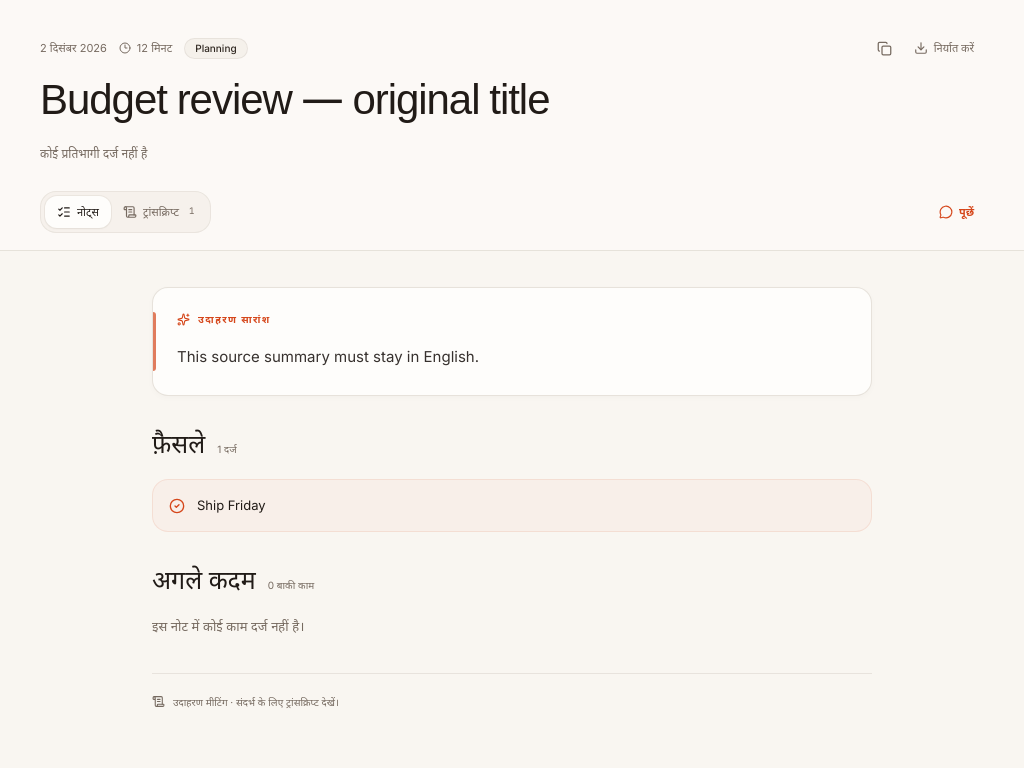
Test: translated workspace › translates Hindi transcript controls without translating the transcript
Click the tab "ट्रांसक्रिप्ट 1" at (159, 212), box [111, 196, 206, 228]
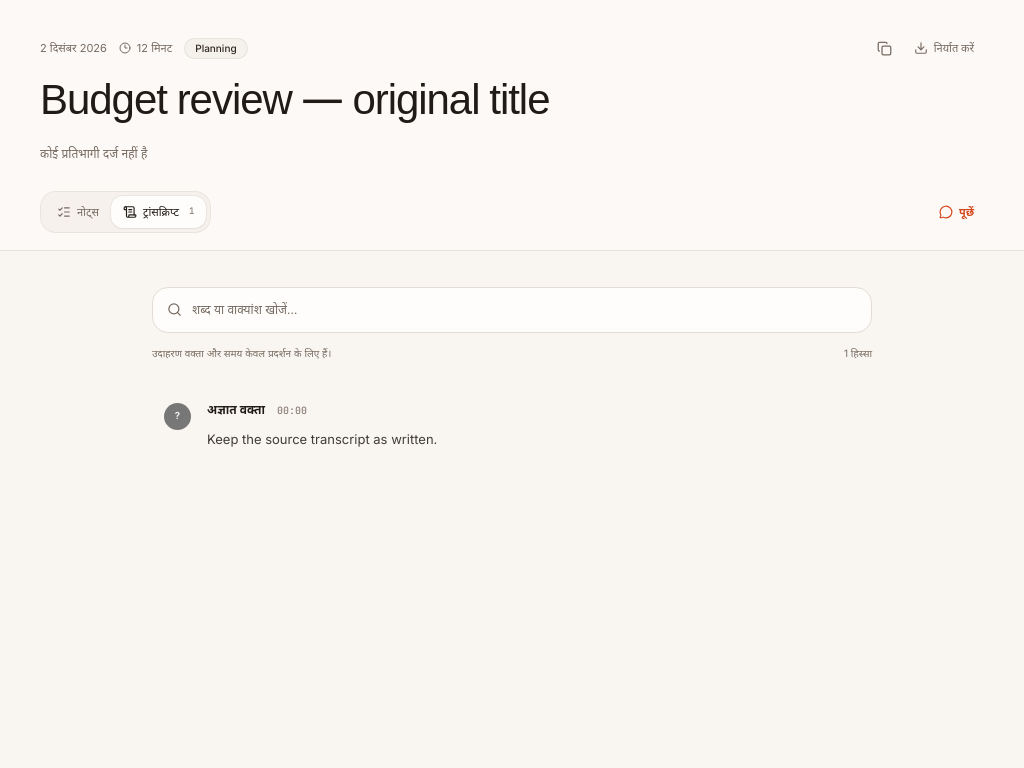
Now the field named "इस ट्रांसक्रिप्ट में खोजें" is shown, box [192, 288, 857, 332]
Now the text "अज्ञात वक्ता" is shown, box [207, 401, 265, 419]
Now the text "Keep the source transcript as written." is shown, box [207, 431, 437, 447]
